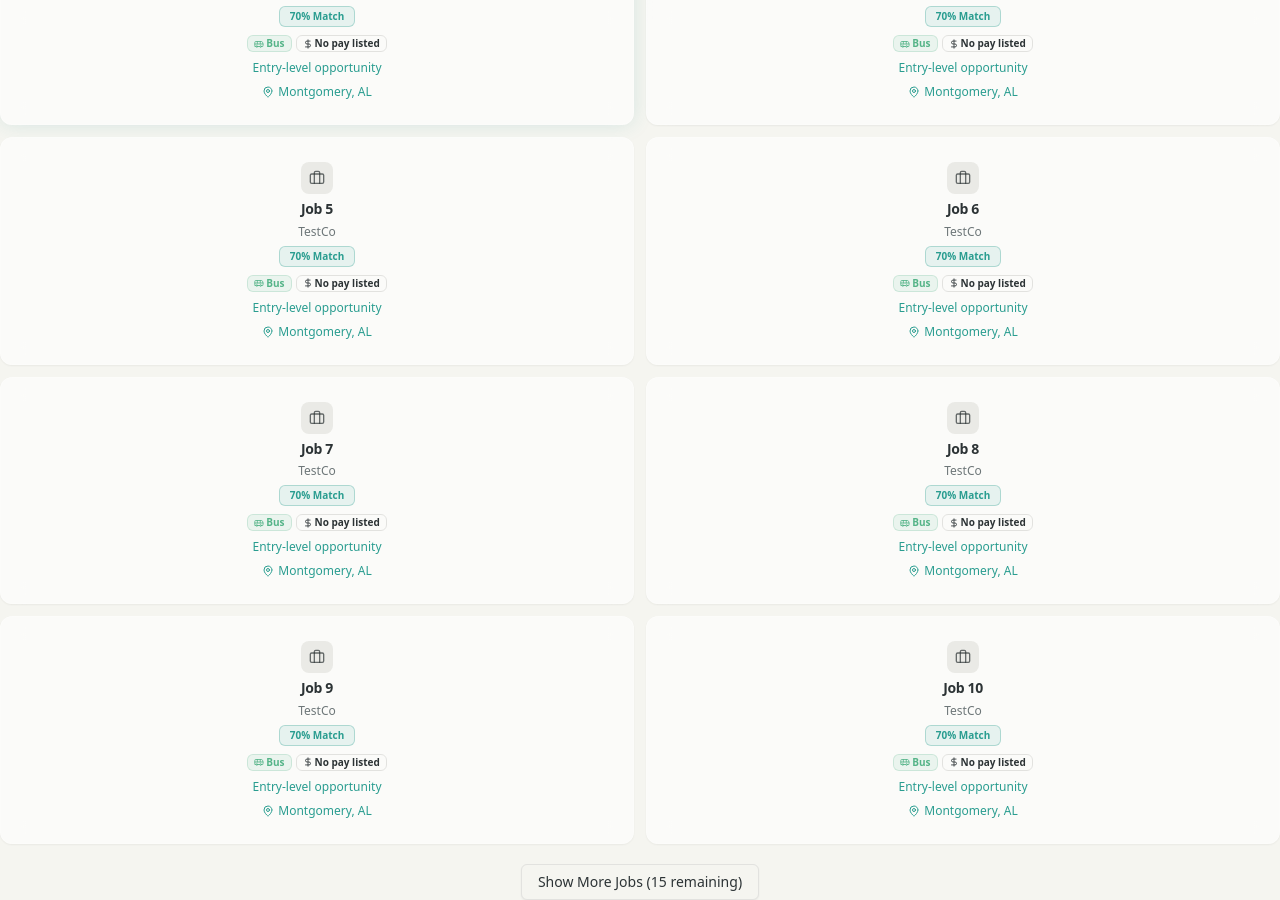
Test: JobListSection › loads next batch on 'Show More' click
(page scrolled)
Click the button "Show More Jobs (15 remaining)" at (640, 882), box [521,864,759,899]
(page scrolled)
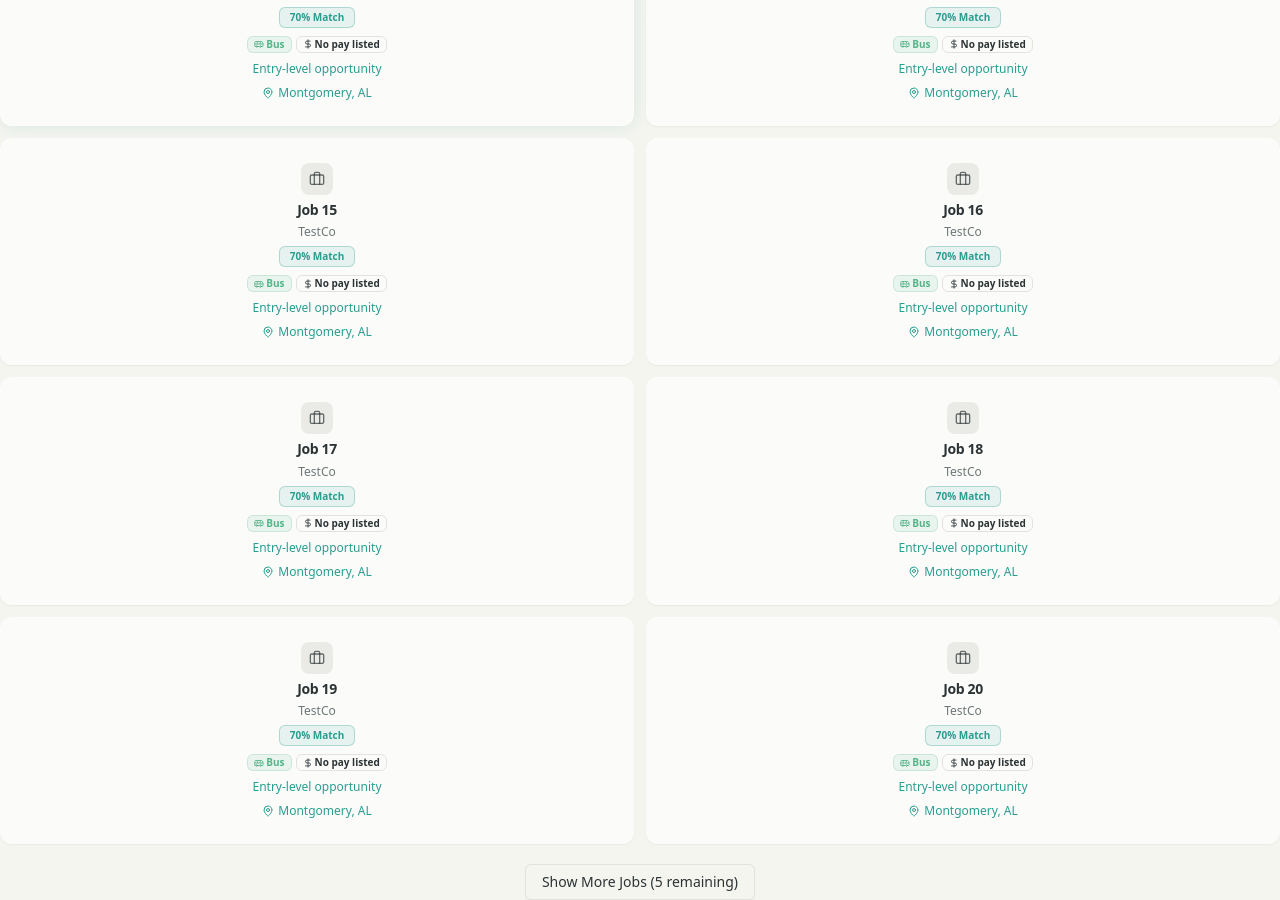
expect the text "Job 20" is shown: met, box [943,680,983,697]
